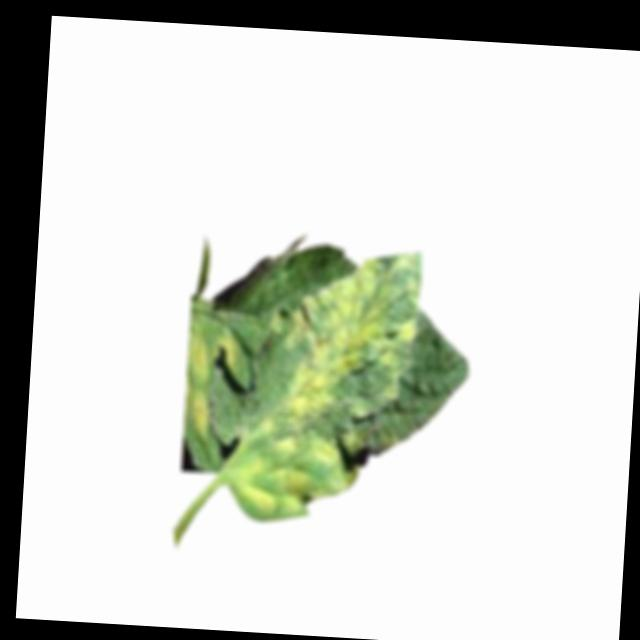Leaf_Mold: (262, 244, 423, 425), (228, 416, 366, 528), (183, 328, 212, 384), (188, 389, 210, 438), (216, 330, 236, 372)
